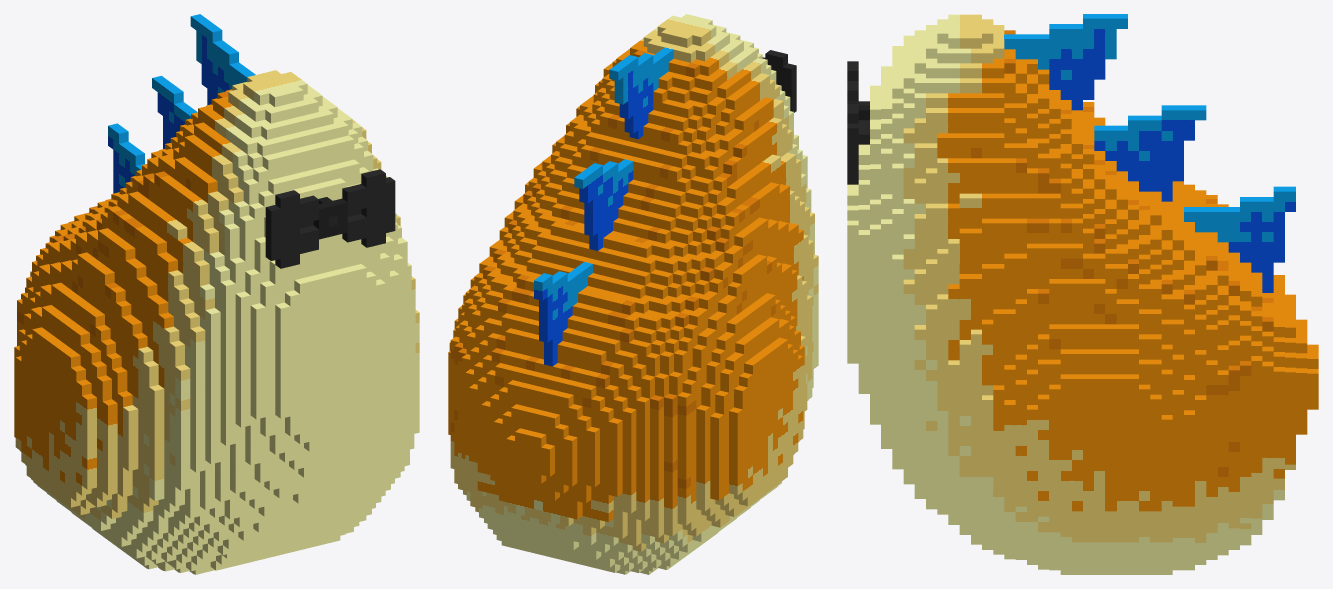
Rendered from black bow tie.gltf.
3 renders of one model, left to right at view 1: azimuth 30°, elevation 25°; view 2: azimuth 150°, elevation 25°; view 3: azimuth 270°, elevation 25°, orthographic. The views are drawn at different scales.
Parts seen in each view (by area): view 1: 01_Body_BowTie-Mesh; view 2: 01_Body_BowTie-Mesh; view 3: 01_Body_BowTie-Mesh.
Boxes of the visible parts, x1=… form: 01_Body_BowTie-Mesh: x1=14, y1=14, x2=419, y2=574; 01_Body_BowTie-Mesh: x1=448, y1=14, x2=818, y2=574; 01_Body_BowTie-Mesh: x1=847, y1=14, x2=1318, y2=574.
Bounding box in the file's own units: 33 × 51 × 42.
Materials: 1 (1 with a texture image).
